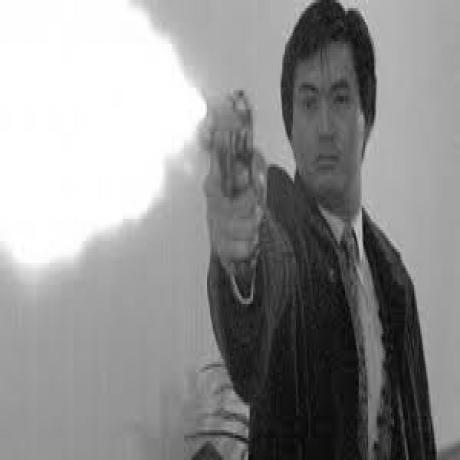Guns: (194, 86, 263, 205)
